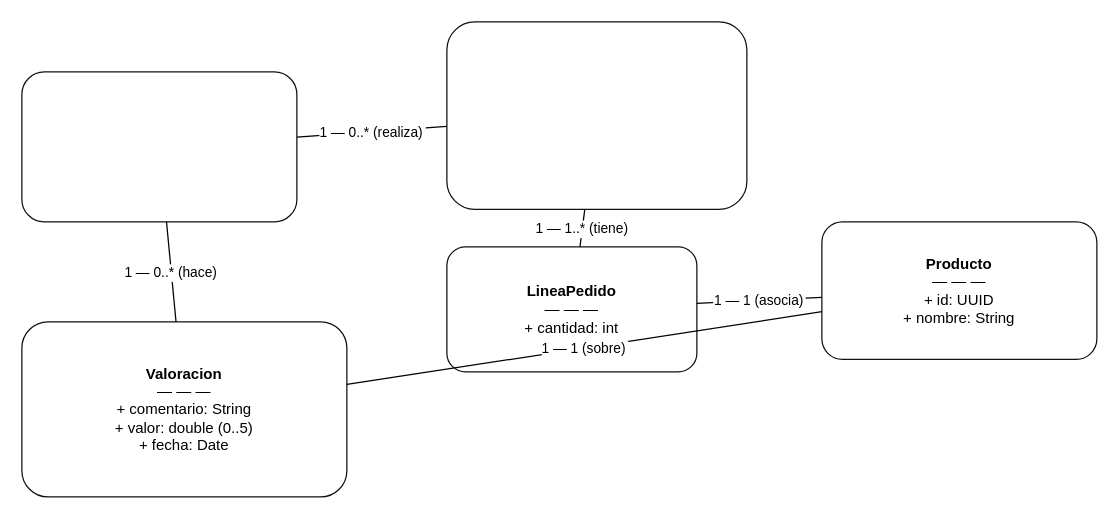
Image size: 1119x519. Some labels were removed from this diagram. Here are the shapes that lost their labels. From the top down, the box of each, then its label:
(446, 21, 747, 209): Pedido — — — + id: UUID + fechaEmision: Date + fechaEntrega: Date
(21, 71, 297, 222): Cliente — — — + username: String + fechaRegistro: Date
